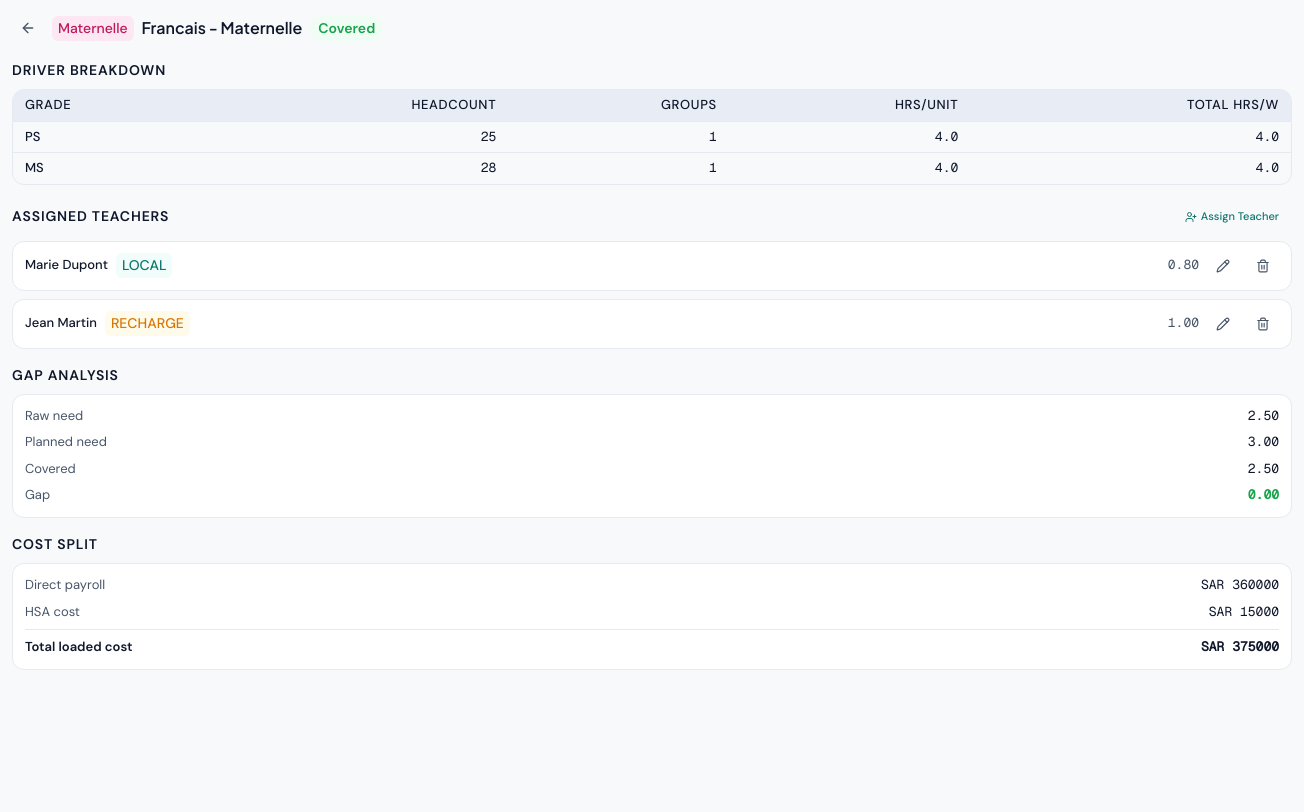
Scenario: StaffingInspectorContent › Assignment management (AC-15) › shows assignment form when "Assign Teacher" is clicked
The width and height of the screenshot is (1304, 812).
What coordinates should you click on to do the following:
click the button "Assign Teacher"
I would click on:
 (1232, 217)
Its box is [1172,201,1292,233].
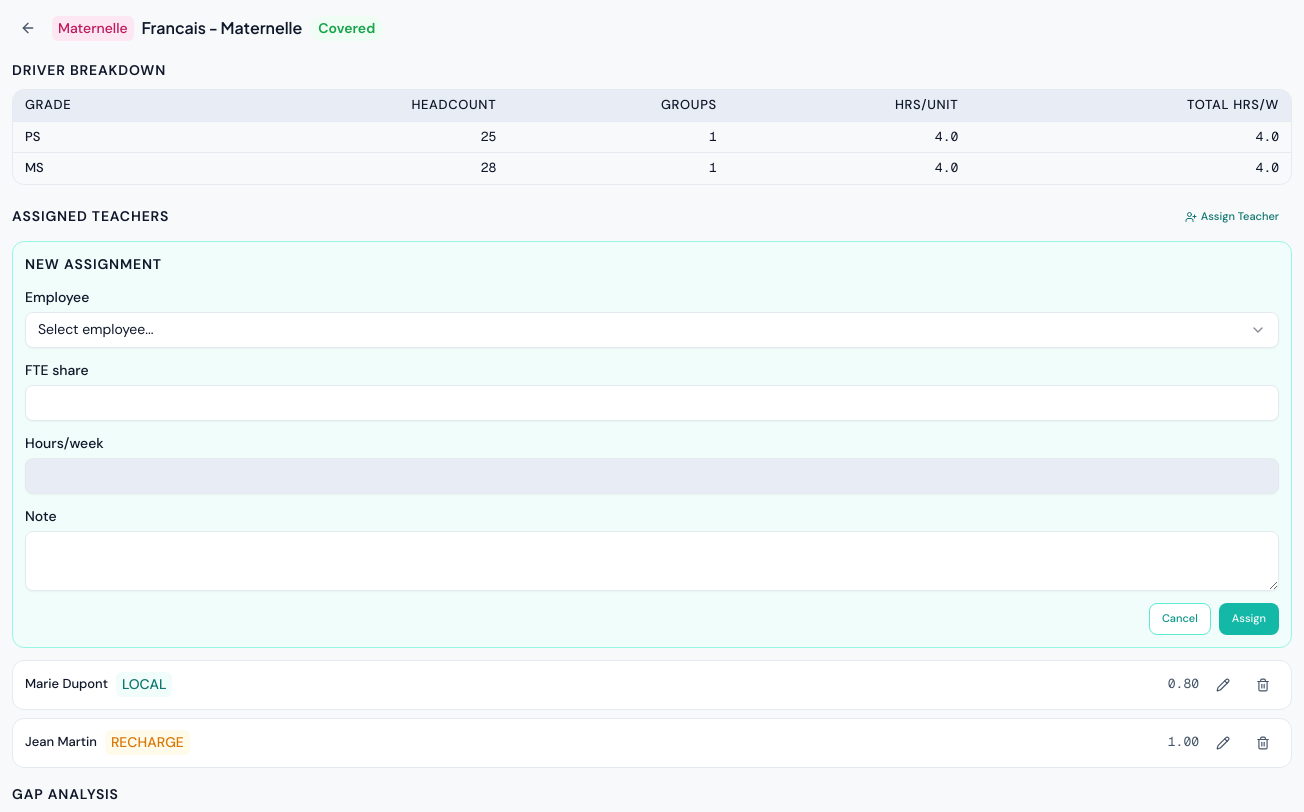
Expected: the dropdown labelled "Select employee..." is shown, [25,312,1279,348]
Expected: the number field labelled "FTE share" is shown, [25,385,1279,421]
